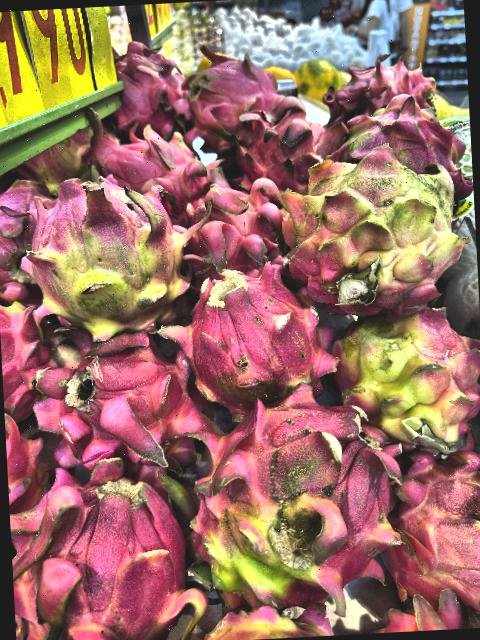buah-naga-belum-matang: (177, 384, 407, 602), (269, 124, 473, 310), (10, 166, 214, 330), (321, 286, 480, 455), (164, 262, 344, 408), (379, 439, 480, 611)
buah-naga-matang: (7, 462, 206, 640), (22, 330, 202, 476), (70, 103, 219, 223), (219, 82, 356, 192), (168, 176, 296, 281), (308, 47, 446, 128), (171, 40, 282, 131), (103, 38, 190, 136)
